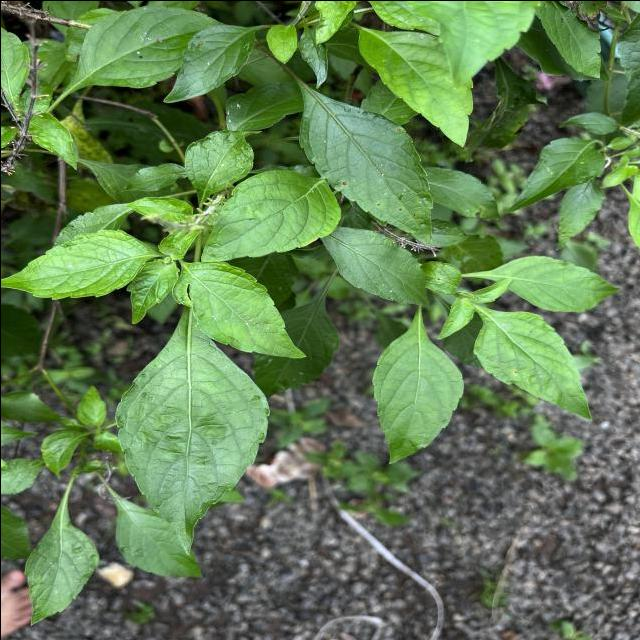Ocimum gratissimum: (111, 315, 272, 556), (292, 74, 434, 246), (368, 300, 464, 466), (354, 21, 474, 150), (195, 166, 344, 265), (168, 256, 308, 361), (62, 2, 224, 92), (471, 304, 594, 422), (20, 477, 100, 627), (0, 226, 159, 301), (458, 252, 626, 312), (160, 21, 262, 104)
